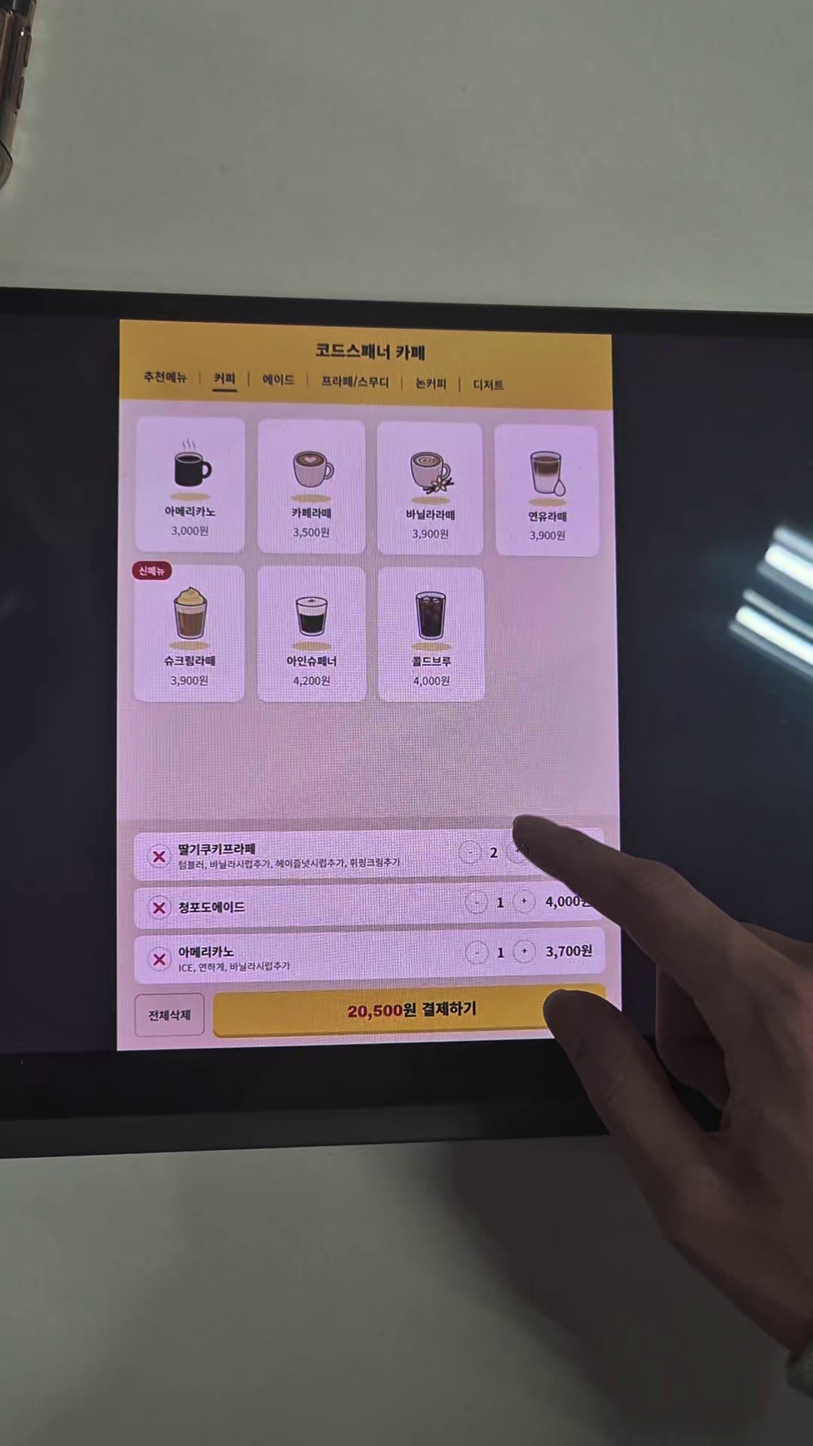action_button: (213, 983, 607, 1038), (135, 993, 205, 1035)
cart_item: (135, 928, 606, 985), (134, 828, 605, 881), (134, 881, 607, 930)
category_tab: (319, 372, 391, 391), (141, 368, 190, 386), (413, 374, 450, 392), (471, 375, 507, 393), (261, 371, 297, 388), (213, 369, 239, 386)
menu_back: (132, 562, 245, 702), (135, 417, 245, 553), (257, 566, 367, 702), (257, 418, 366, 555), (377, 567, 485, 702), (377, 420, 483, 555), (495, 423, 600, 556)
menu_name: (163, 504, 217, 520), (404, 507, 458, 522), (163, 654, 216, 668), (287, 655, 338, 668), (289, 506, 334, 520), (411, 654, 453, 669), (528, 510, 569, 524)
menu_price: (412, 674, 452, 689), (169, 674, 211, 688), (528, 529, 568, 543), (411, 527, 450, 541), (170, 524, 210, 537), (292, 674, 332, 687), (292, 526, 331, 539)
